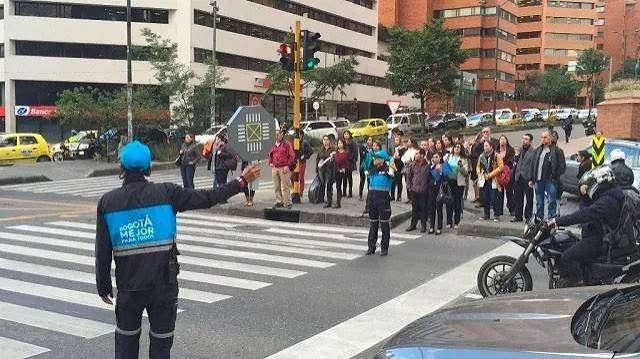car: (367, 248, 636, 359), (434, 225, 636, 356), (475, 213, 629, 312), (549, 161, 637, 286), (569, 276, 640, 352), (1, 132, 51, 164), (298, 118, 349, 146)
